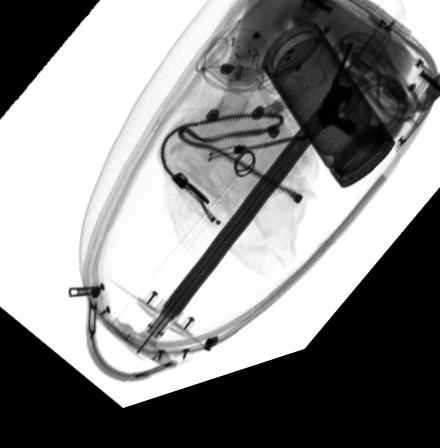Gun: (316, 63, 356, 157)
